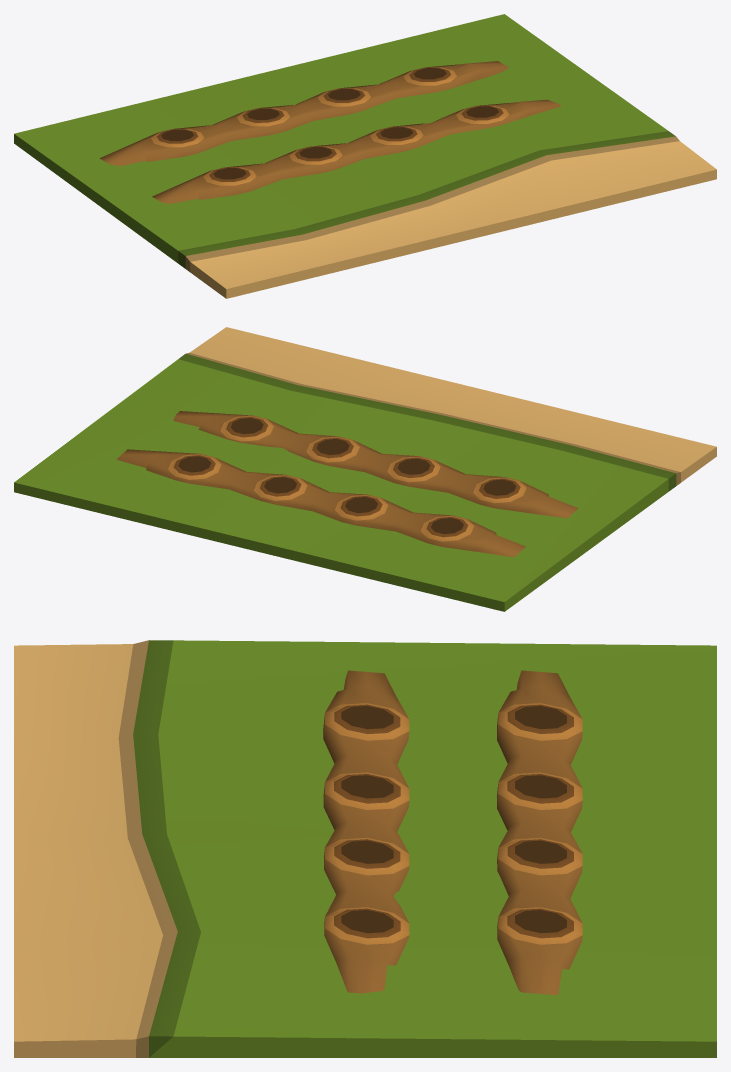
Rendered from carrot patch.fbx.
3 views of the same model, one above another, from view 1: azimuth 30°, elevation 25°; view 2: azimuth 150°, elevation 25°; view 3: azimuth 270°, elevation 25° (orthographic). The views are drawn at different scales.
Parts seen in each view (by area): view 1: ground, carrot piles; view 2: ground, carrot piles; view 3: ground, carrot piles.
Boxes of the visible parts, <box> form: ground: <box>14,14,716,298</box>; carrot piles: <box>99,61,560,203</box>; ground: <box>14,327,716,611</box>; carrot piles: <box>117,411,578,556</box>; ground: <box>14,640,716,1057</box>; carrot piles: <box>323,670,582,995</box>.
Bounding box in the file's own units: 2000 × 84.65 × 1500.
